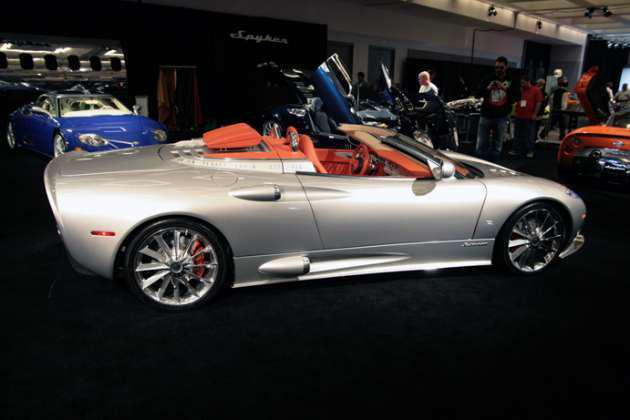Car: (29, 91, 595, 331), (1, 84, 177, 175)
